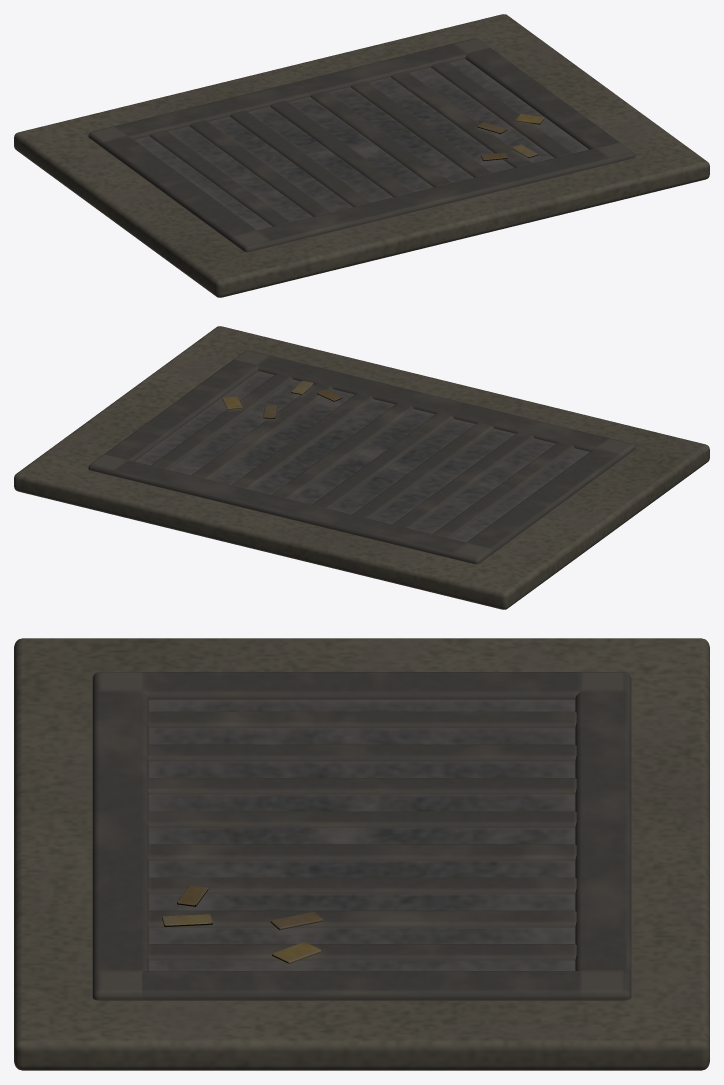
Rendered from ul_kratka.glb.
3 renders of one model, top to bottom at view 1: azimuth 30°, elevation 25°; view 2: azimuth 150°, elevation 25°; view 3: azimuth 270°, elevation 25°, orthographic. The views are drawn at different scales.
Parts seen in each view (by area): view 1: Kratka; view 2: Kratka; view 3: Kratka.
Boxes of the visible parts, box(x1,y1,x2,y2) form: Kratka: box(14, 14, 709, 297); Kratka: box(14, 326, 709, 609); Kratka: box(14, 638, 709, 1070).
Bounding box in the file's own units: 0.86 × 0.0443 × 0.62.
Materials: 1 (1 with a texture image).
